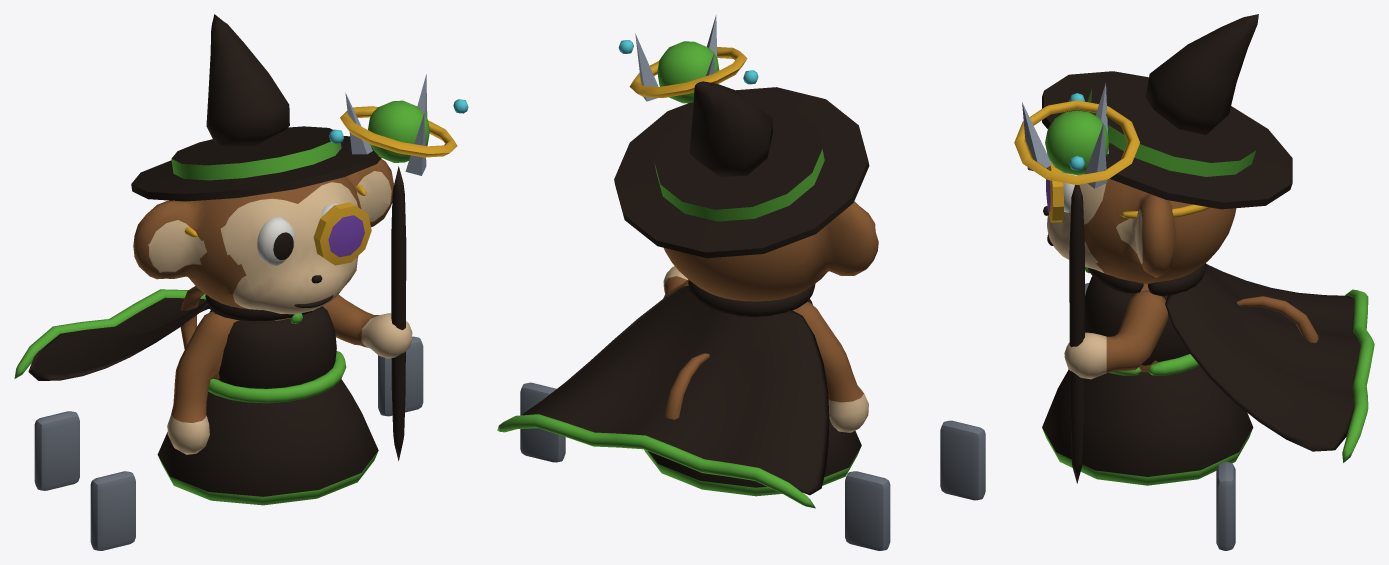
3 views of the same model, side by side, from view 1: azimuth 30°, elevation 25°; view 2: azimuth 150°, elevation 25°; view 3: azimuth 270°, elevation 25° (orthographic). The views are drawn at different scales.
Parts seen in each view (by area): view 1: mago_3_cabeca, mago_1_corpo, mago_4_braco, mago_0_base, mago_2_cauda; view 2: mago_1_corpo, mago_3_cabeca, mago_0_base, mago_4_braco, mago_2_cauda; view 3: mago_1_corpo, mago_3_cabeca, mago_4_braco, mago_0_base, mago_2_cauda.
Boxes of the visible parts, left/top/right/bottom form: mago_3_cabeca: left=131, top=14, right=393, bottom=314; mago_1_corpo: left=14, top=289, right=378, bottom=505; mago_4_braco: left=322, top=74, right=468, bottom=460; mago_0_base: left=34, top=336, right=423, bottom=550; mago_2_cauda: left=180, top=286, right=205, bottom=349; mago_1_corpo: left=497, top=280, right=868, bottom=508; mago_3_cabeca: left=614, top=81, right=878, bottom=301; mago_0_base: left=520, top=382, right=985, bottom=550; mago_4_braco: left=618, top=15, right=758, bottom=298; mago_2_cauda: left=664, top=353, right=709, bottom=419; mago_1_corpo: left=1042, top=263, right=1374, bottom=485; mago_3_cabeca: left=1042, top=14, right=1292, bottom=284; mago_4_braco: left=1014, top=83, right=1168, bottom=483; mago_0_base: left=1085, top=283, right=1235, bottom=550; mago_2_cauda: left=1237, top=296, right=1318, bottom=342.
Bounding box in the file's own units: 1.21 × 1.25 × 0.9212.
